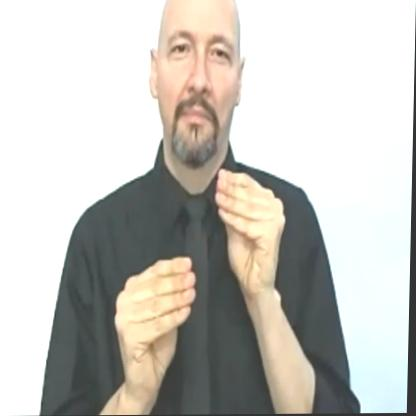Fix: (108, 161, 292, 398)
